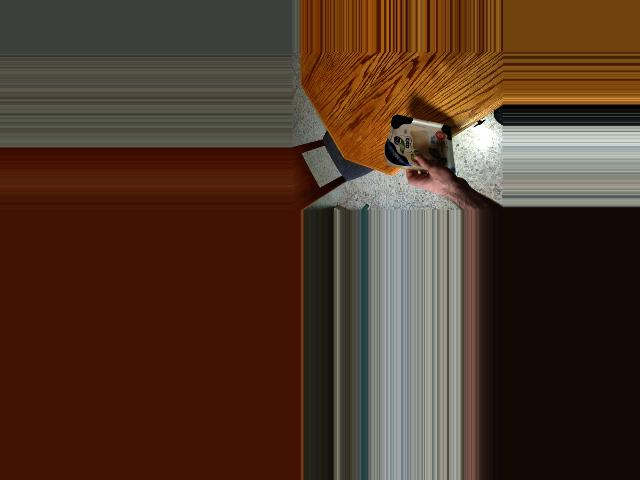cheese: (380, 120, 463, 170)
